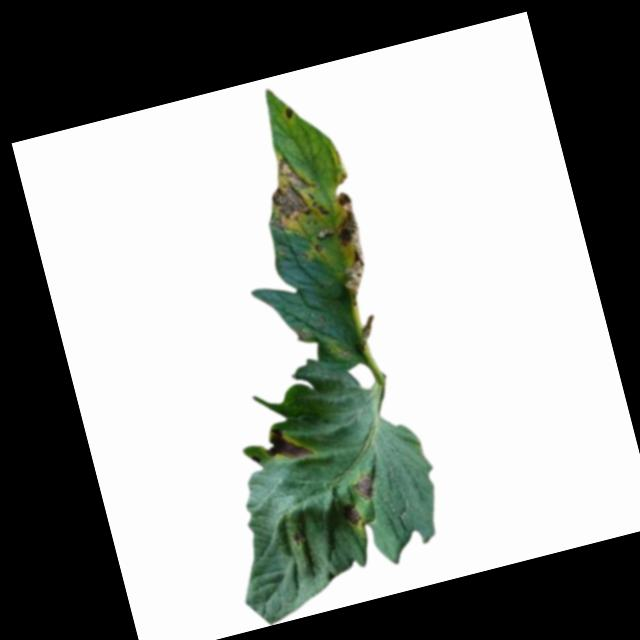Early_blight: (314, 174, 377, 304), (252, 150, 326, 235), (262, 422, 315, 471), (353, 475, 378, 498), (347, 506, 365, 527), (283, 104, 298, 124)
